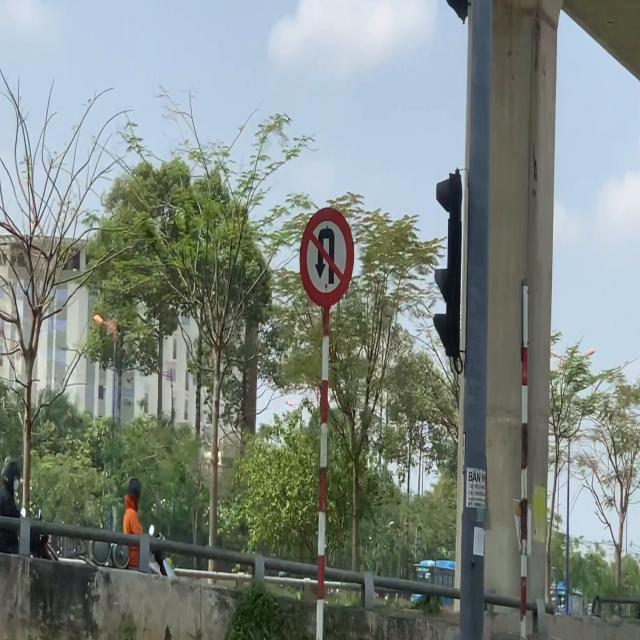Cam quay dau xe: (298, 204, 356, 312)
